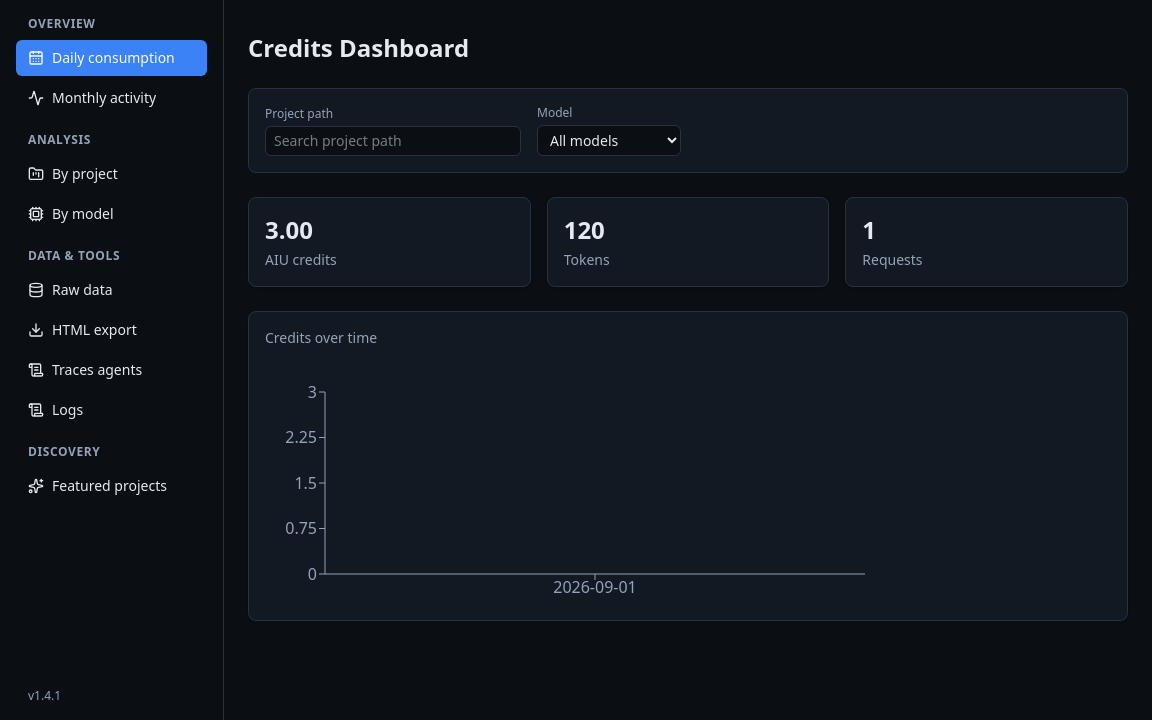
App › navigates to the raw data page when "Raw data" is clicked and back again
The width and height of the screenshot is (1152, 720).
Expected: the text "3.00" is shown, [265,214,313,246]
Step 1. Click the button "Raw data" → x=112, y=290, box [16,272,207,308]
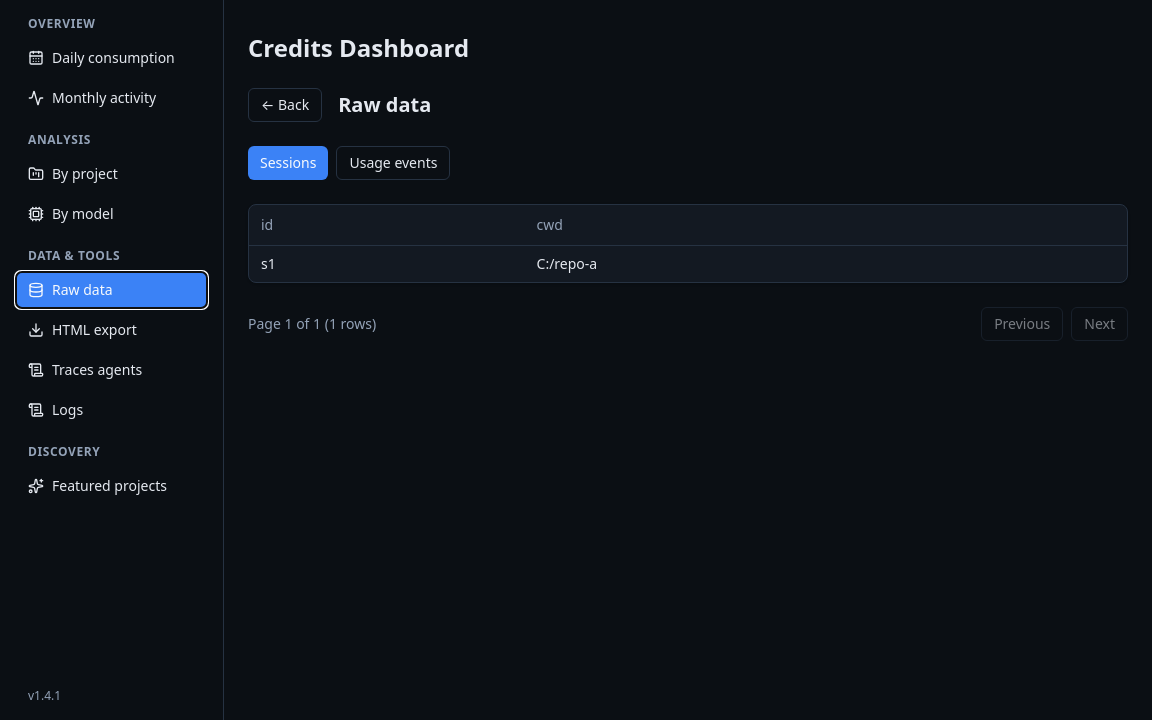
Now the heading "Raw data" is shown, box [338,91,431,119]
Now the text "s1" is shown, box [249,245,524,282]
Step 2. Click the button "← Back" → x=285, y=105, box [248,88,322,122]
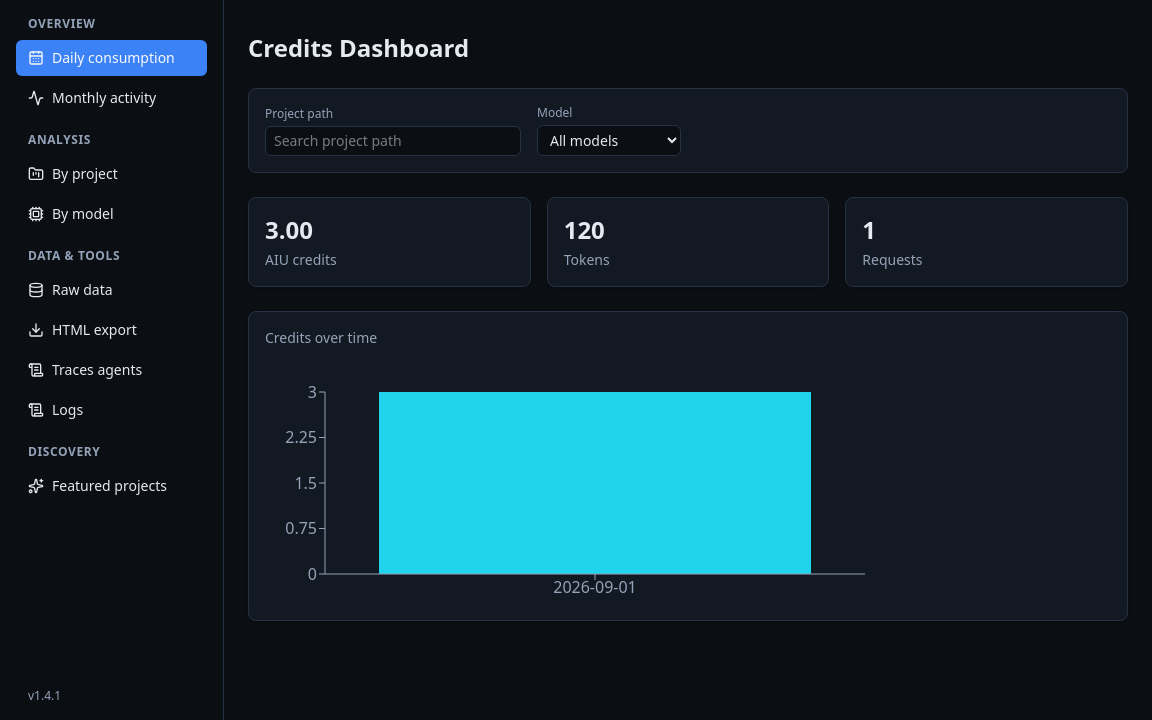
Now the text "3.00" is shown, box [265,214,313,246]
